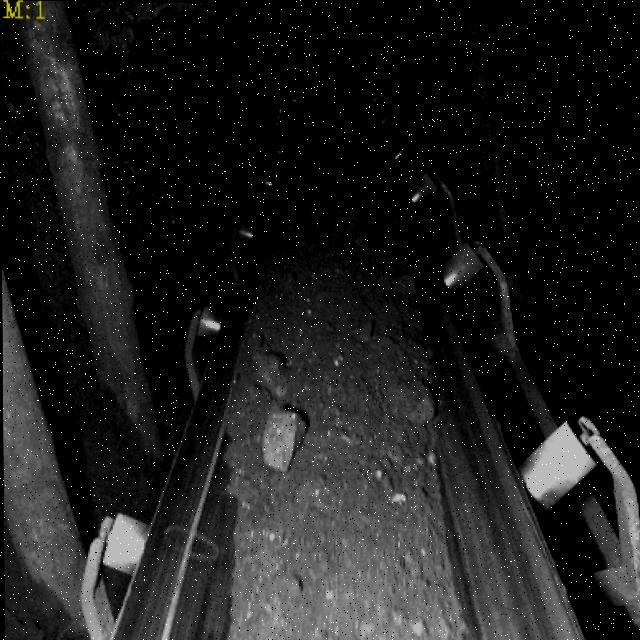large_sized_coal: (256, 414, 308, 472), (254, 352, 294, 401), (386, 382, 436, 421)
